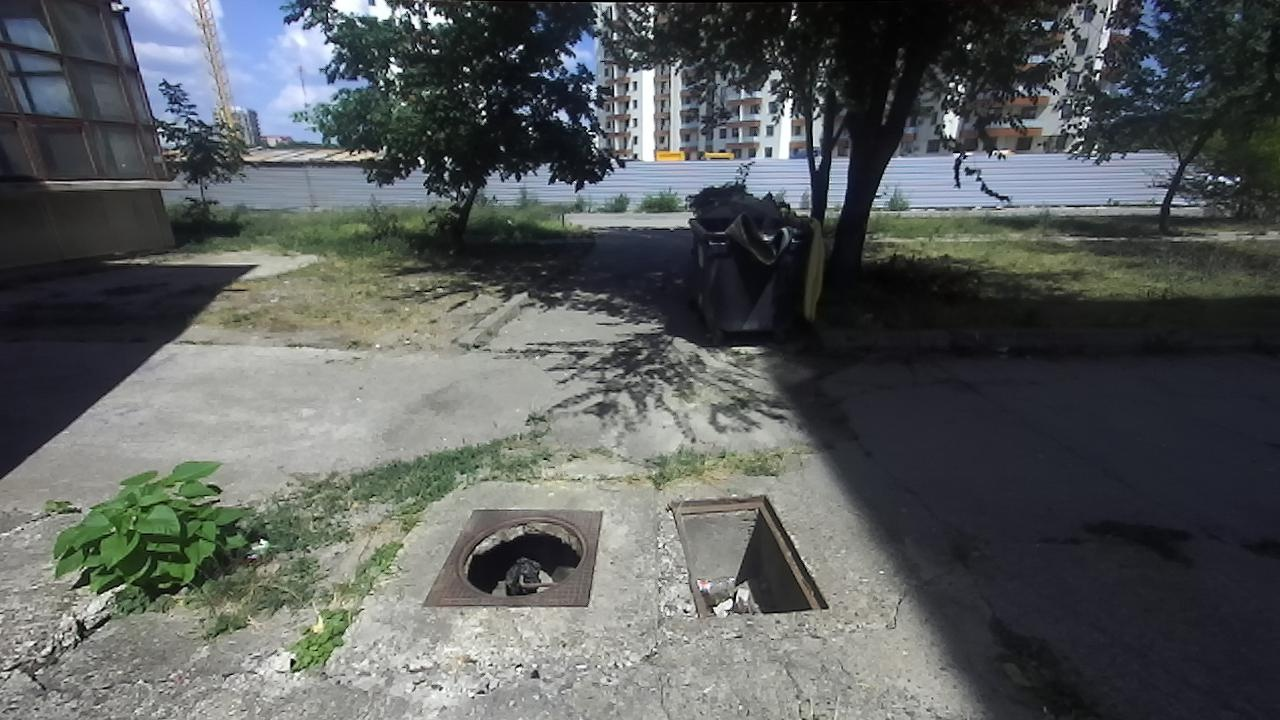drain: (668, 490, 829, 616), (450, 512, 589, 606)
